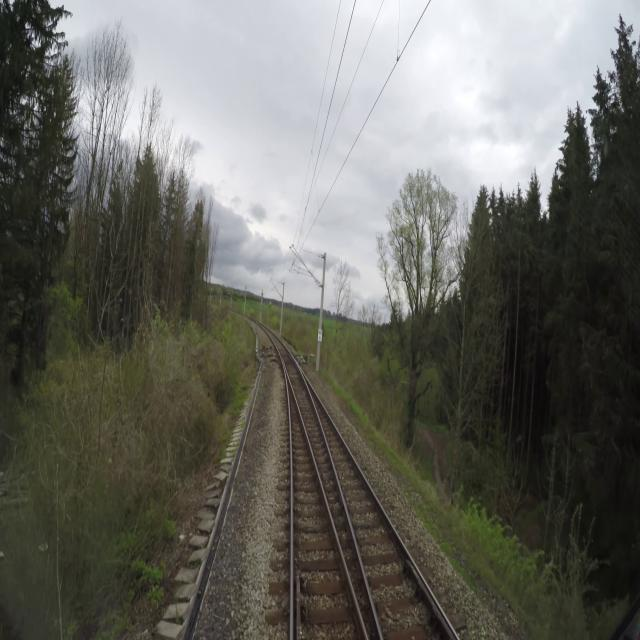rail-track: (312, 393, 447, 639), (271, 334, 379, 639), (289, 386, 363, 639)
